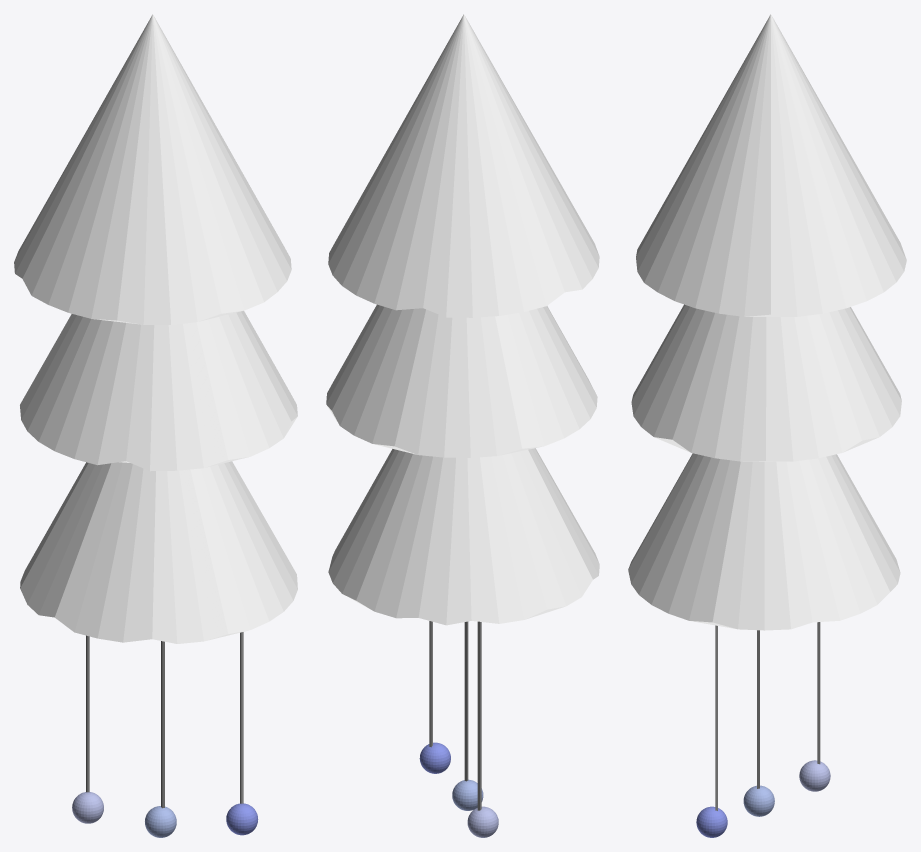
File: satellite15.glb
The picture shows the model from 3 angles, left to right: view 1: azimuth 30°, elevation 25°; view 2: azimuth 150°, elevation 25°; view 3: azimuth 270°, elevation 25°; orthographic projection. The views are drawn at different scales.
Visible parts, largest first — view 1: Cone.001, Cone.002, Cone, Sphere.002, Sphere.001, Sphere, Cube.002, Cube, Cube.001; view 2: Cone.001, Cone.002, Cone, Cube.001, Cube, Sphere.001, Sphere.002, Sphere; view 3: Cone.001, Cone.002, Cone, Sphere.001, Sphere.002, Sphere, Cube.001, Cube.002.
Boxes of the visible parts, bbox=[...] form: Cone.001: bbox=[14, 14, 291, 324]; Cone.002: bbox=[20, 461, 297, 643]; Cone: bbox=[20, 311, 297, 471]; Sphere.002: bbox=[226, 803, 258, 835]; Sphere.001: bbox=[72, 792, 103, 823]; Sphere: bbox=[145, 806, 176, 837]; Cube.002: bbox=[240, 632, 243, 803]; Cube: bbox=[161, 641, 164, 808]; Cube.001: bbox=[86, 635, 89, 792]; Cone.001: bbox=[328, 14, 599, 317]; Cone.002: bbox=[328, 448, 599, 625]; Cone: bbox=[326, 304, 597, 457]; Cube.001: bbox=[477, 621, 481, 810]; Cube: bbox=[464, 621, 468, 781]; Sphere.001: bbox=[467, 806, 498, 837]; Sphere.002: bbox=[419, 742, 450, 773]; Sphere: bbox=[452, 779, 483, 810]; Cone.001: bbox=[636, 14, 906, 316]; Cone.002: bbox=[628, 453, 900, 630]; Cone: bbox=[631, 304, 901, 461]; Sphere.001: bbox=[799, 760, 830, 791]; Sphere.002: bbox=[696, 806, 727, 837]; Sphere: bbox=[743, 785, 774, 816]; Cube.001: bbox=[817, 622, 820, 764]; Cube.002: bbox=[715, 625, 717, 810].
Bounding box in the file's own units: 2.04 × 6.49 × 2.05.
